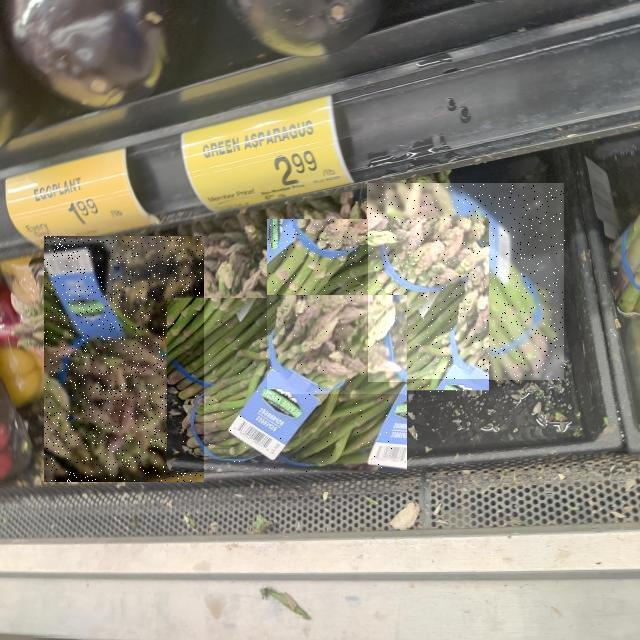Asparagus: (167, 298, 407, 472), (44, 237, 204, 483), (368, 184, 566, 382), (267, 220, 489, 394)
